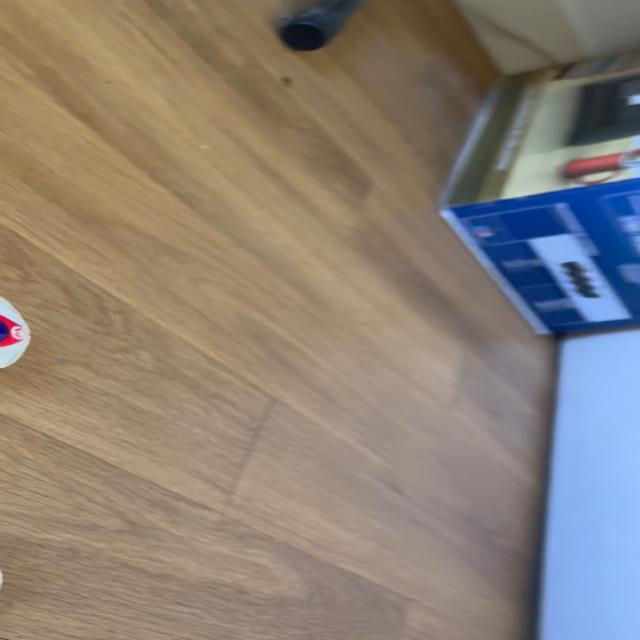mario: (0, 265, 51, 393)
